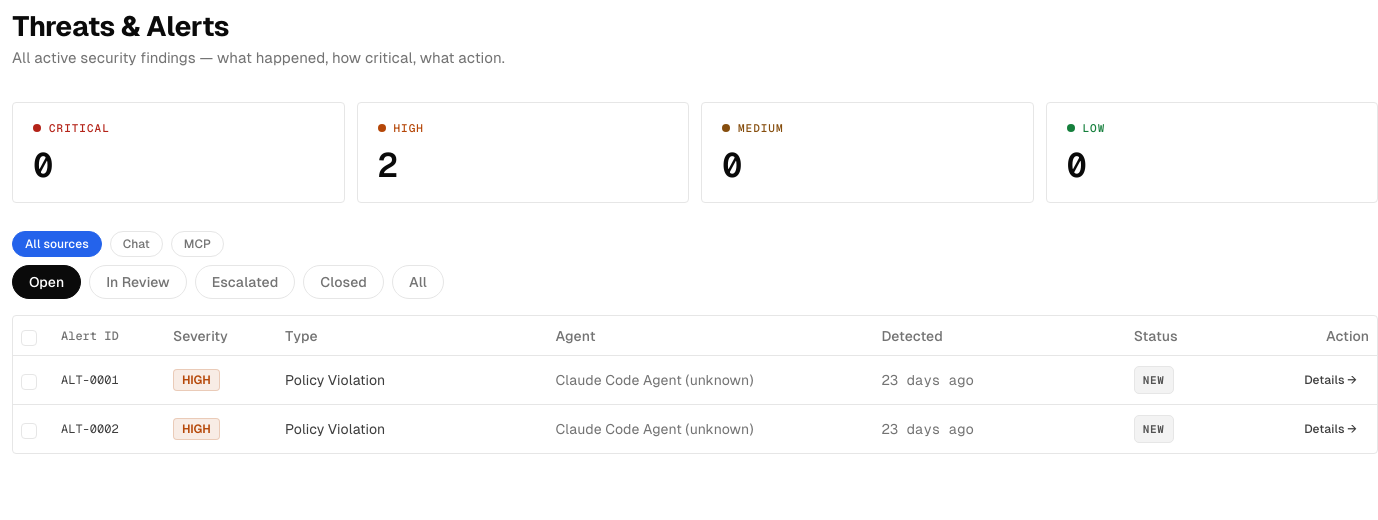
Scenario: ThreatsAlertsPage — bulk actions › select-all drives the toolbar and clears again
Click the checkbox named "Select all visible alerts".
click(29, 338)  # box [21,330,37,346]
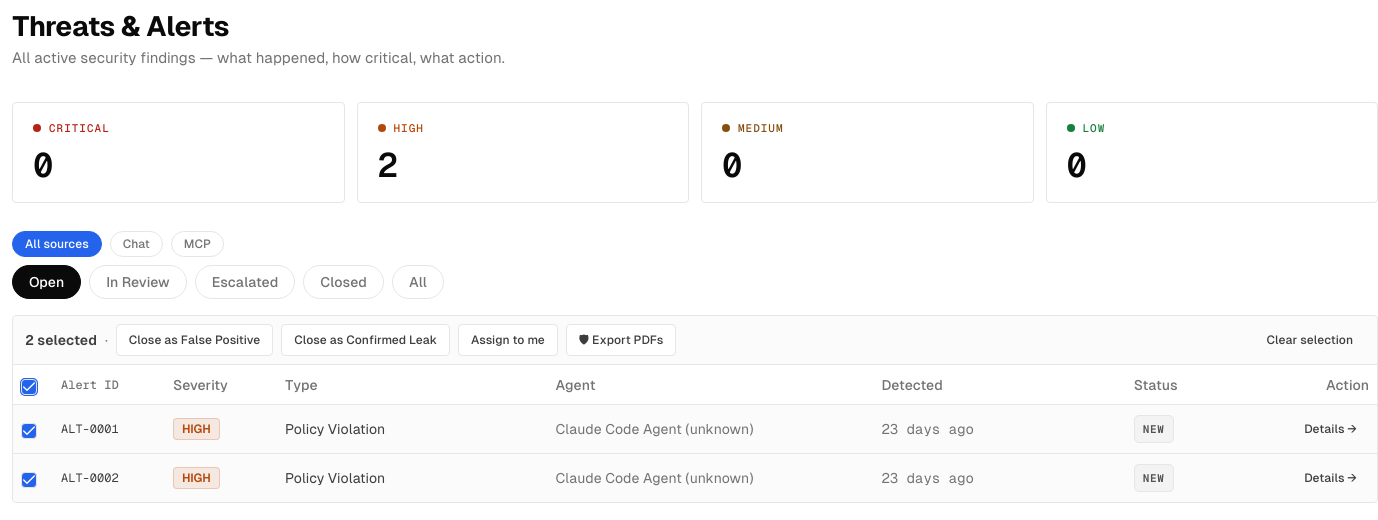
Expected: the text "2 selected" is shown, [25,330,97,350]
Click the button "Clear selection".
click(1310, 340)  # box [1254,324,1365,356]
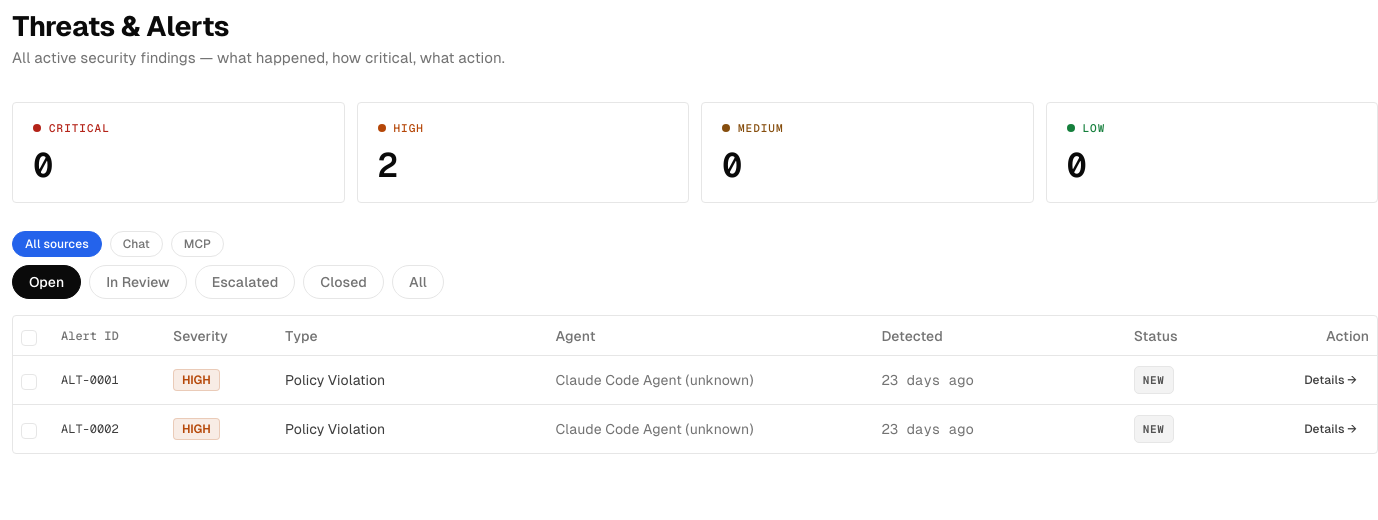
Expected: the text "2 selected" is gone
